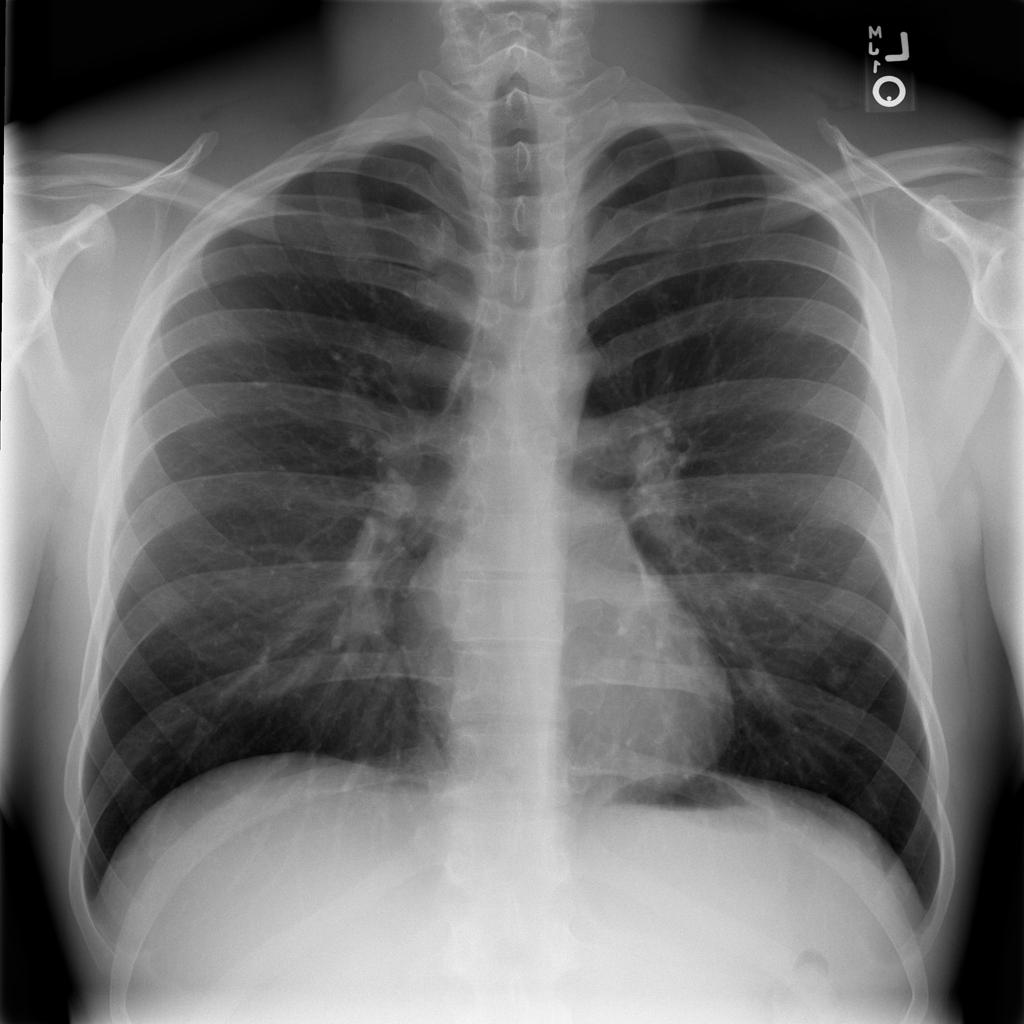nodule: (814, 651, 866, 700)
